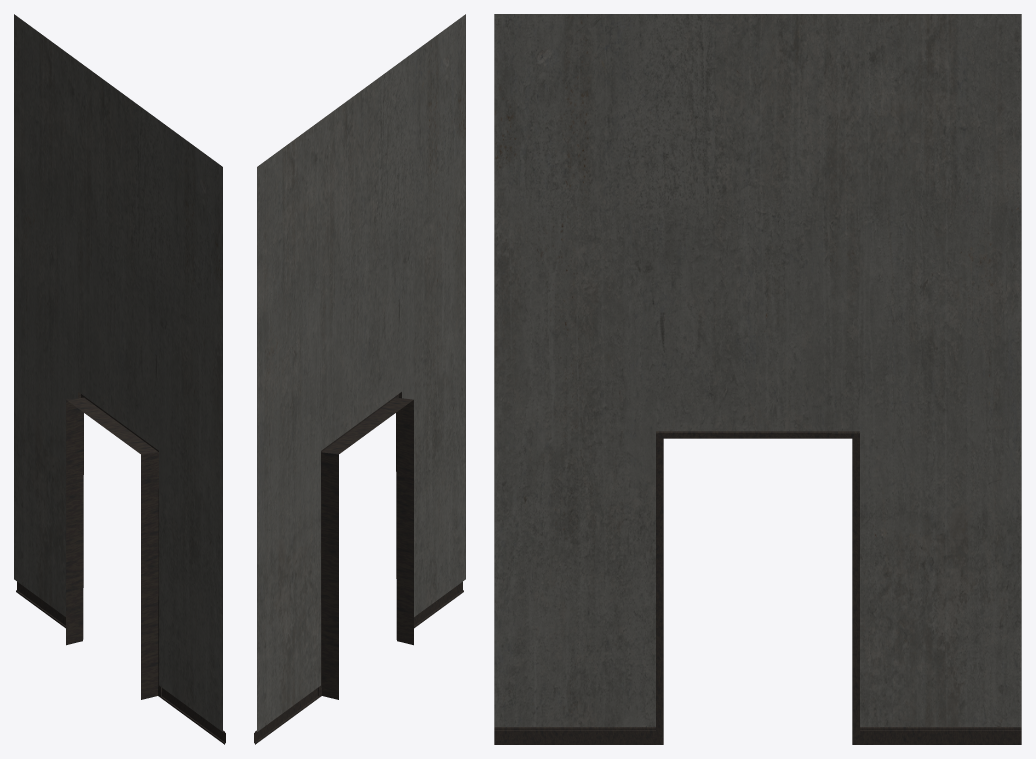
Rendered from ParedeOffice.fbx.
3 renders of one model, left to right at view 1: azimuth 30°, elevation 25°; view 2: azimuth 150°, elevation 25°; view 3: azimuth 270°, elevation 25°, orthographic. The views are drawn at different scales.
Parts seen in each view (by area): view 1: Plane.005; view 2: Plane.005; view 3: Plane.005.
Boxes of the visible parts, x1,y1,x2,y2 form: Plane.005: (14,14,225,744); Plane.005: (254,14,465,744); Plane.005: (494,14,1021,744).
Bounding box in the file's own units: 41.49 × 1277 × 836.
